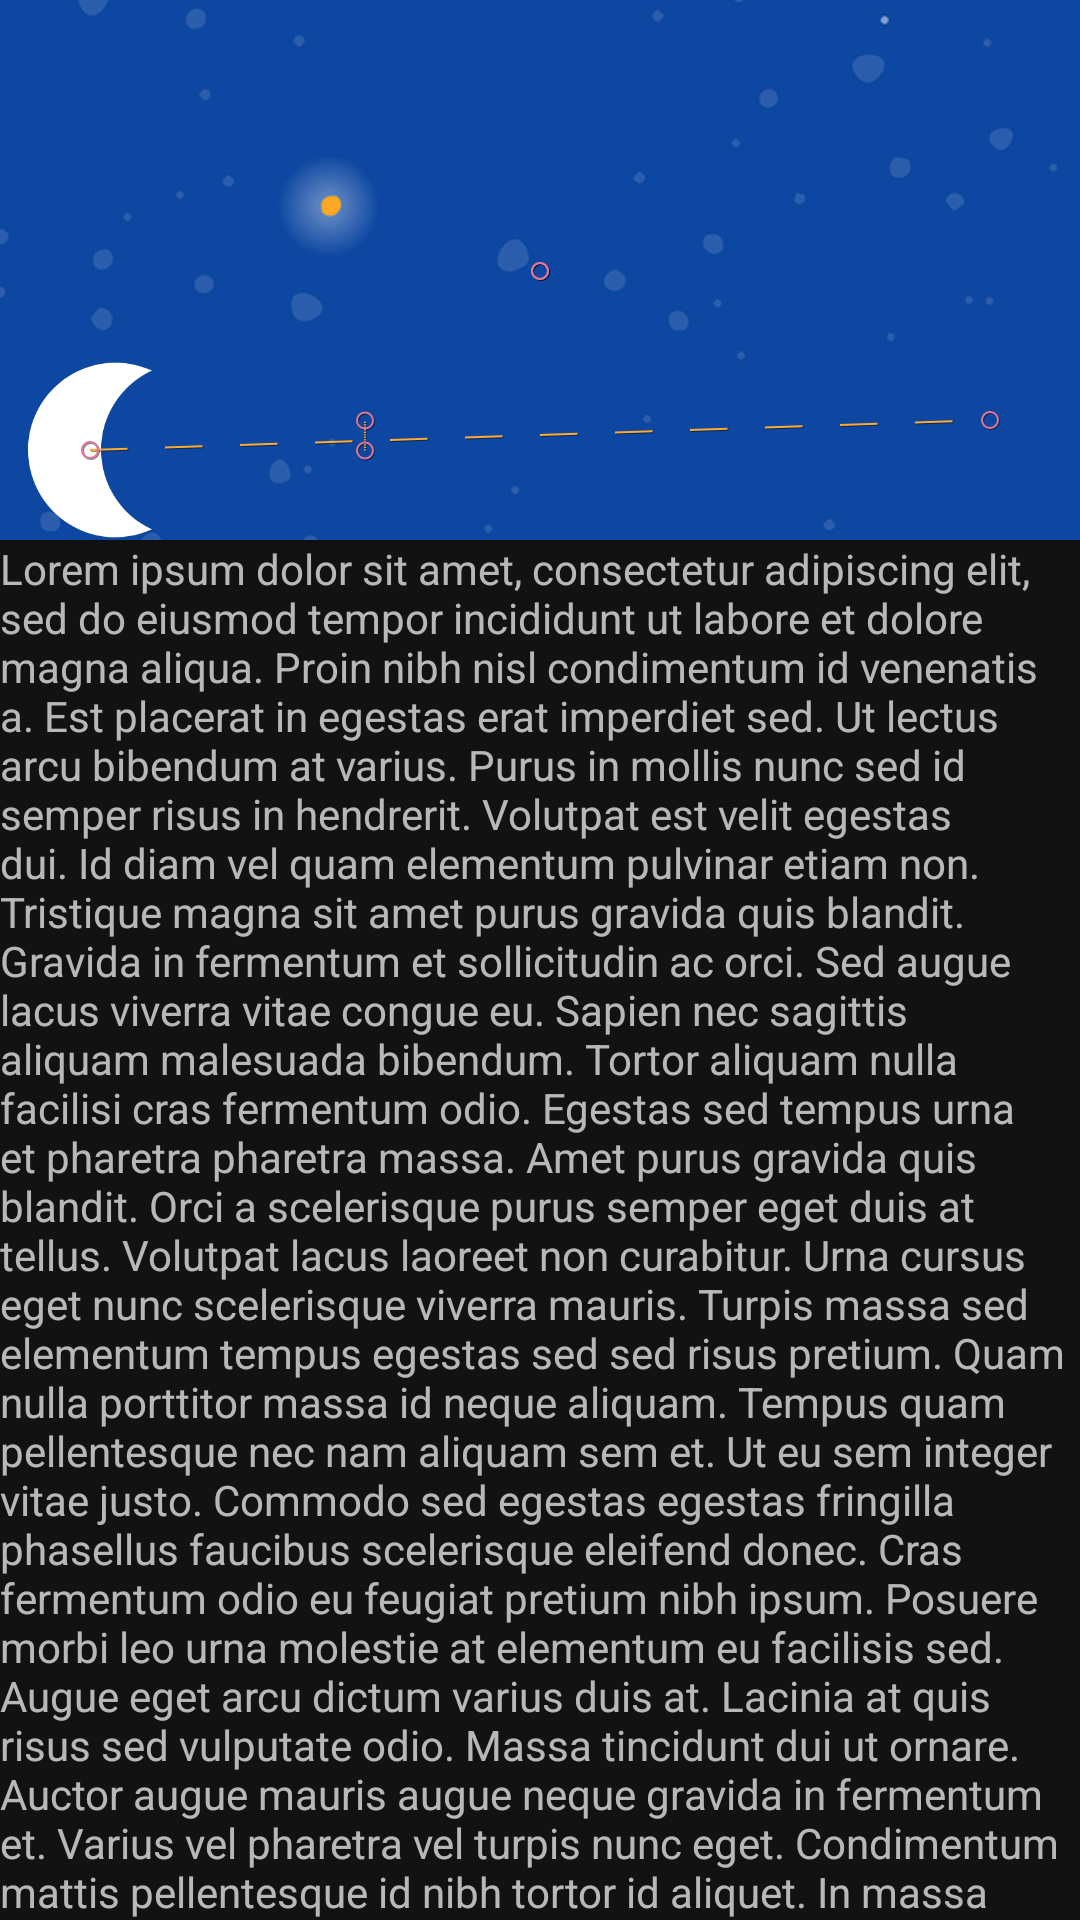

Point at icon controls on the screen. Image size 1080*1920, points as point (x, y).
Moon: point (90, 450)
